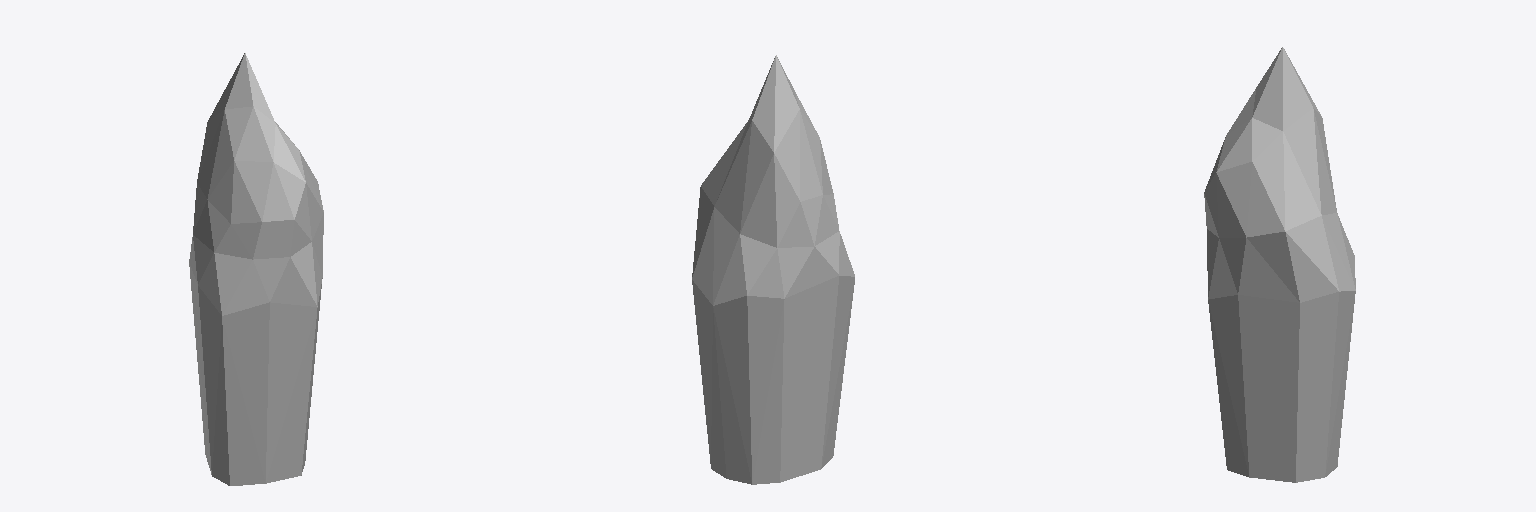
The model's file is island.obj.
The picture shows the model from 3 angles: view 1: azimuth 30°, elevation 25°; view 2: azimuth 150°, elevation 25°; view 3: azimuth 270°, elevation 25°; orthographic projection.
Visible parts, largest first — view 1: Icosphere; view 2: Icosphere; view 3: Icosphere.
Part boxes in pixels (x1,y1,x2,y2): Icosphere: (189,53,323,485); Icosphere: (692,55,854,484); Icosphere: (1204,47,1355,482).
Size of the model in its own units: 2.17 by 6.56 by 2.2.